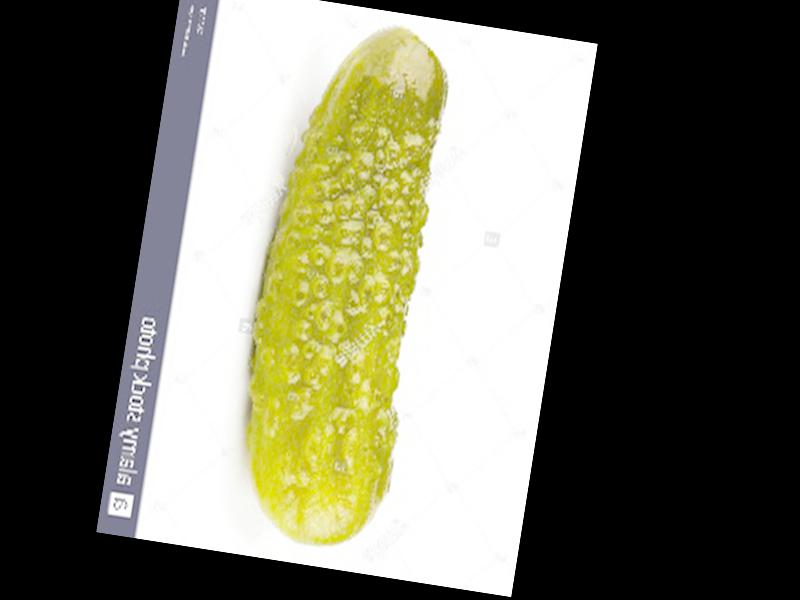Cucumber: (221, 9, 460, 556)
